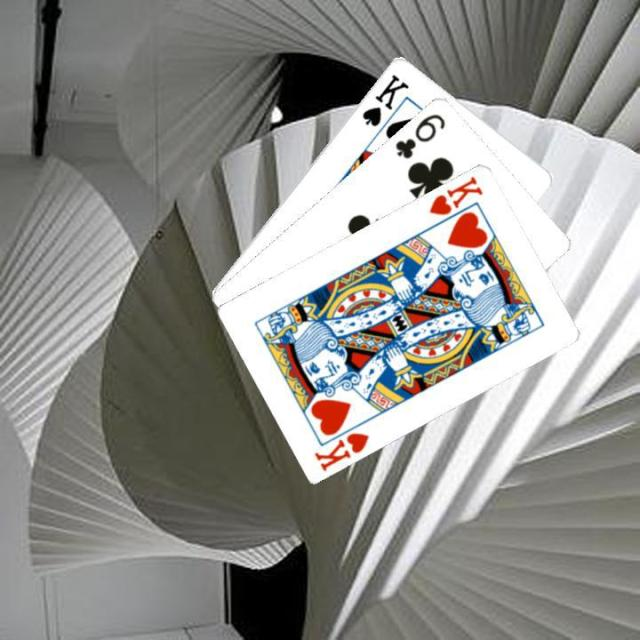6C: (391, 108, 447, 160)
KH: (425, 171, 485, 217), (310, 428, 372, 472)
KS: (357, 69, 411, 128)
